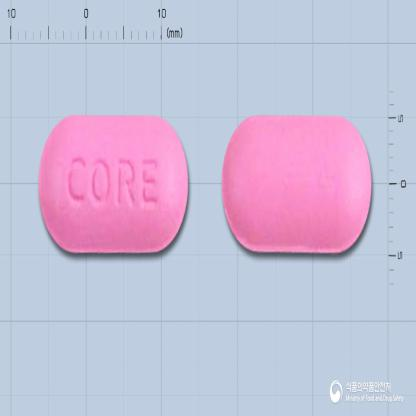pill: (37, 112, 191, 256), (222, 113, 372, 255)
